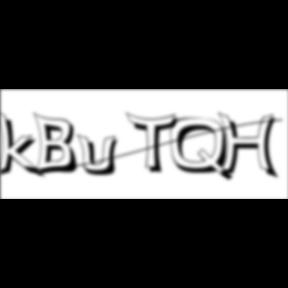B: (34, 111, 84, 179)
H: (218, 112, 284, 182)
Q: (170, 117, 236, 184)
T: (126, 112, 184, 176)
k: (0, 108, 48, 181)
u: (77, 132, 125, 178)
